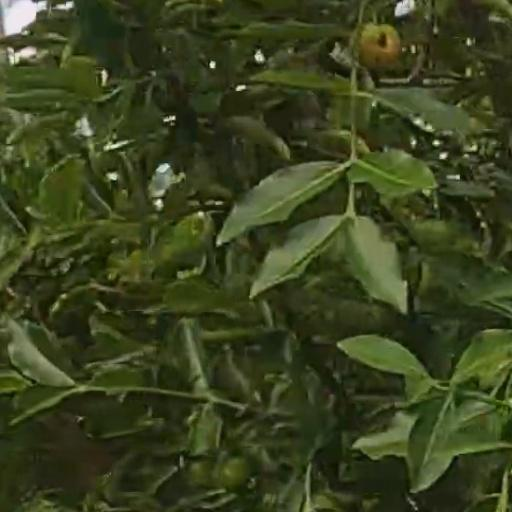acerola_vermelha: (360, 25, 400, 68)
